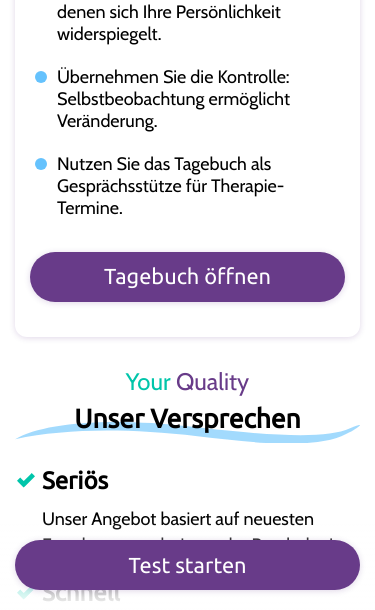
Scenario: Homepage › can navigate to journal page
The image size is (375, 610).
(page scrolled)
Click the button "Tagebuch öffnen" at {"x": 188, "y": 277}, box [30,252,345,302]
(page scrolled)
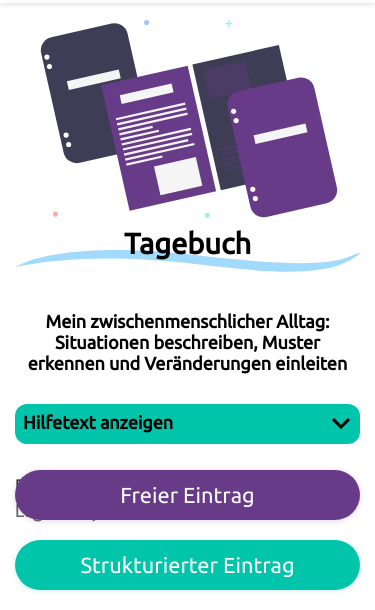
Now the heading "Tagebuch" is shown, box [124,227,251,259]
